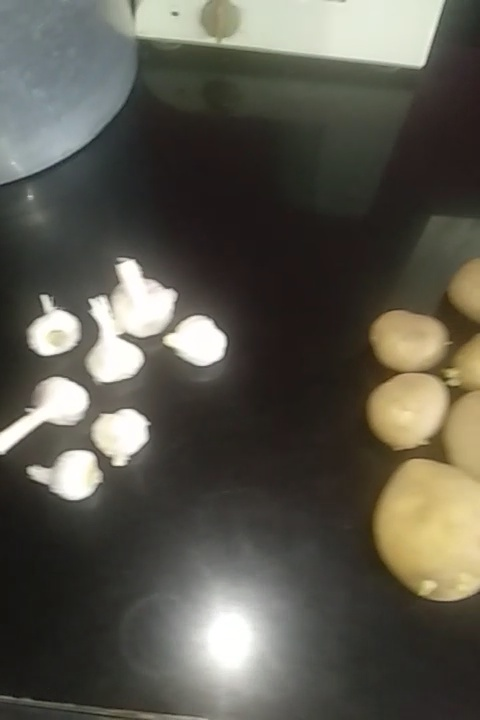garlic: (108, 250, 180, 335), (80, 296, 144, 385), (1, 373, 79, 442), (22, 448, 110, 507), (17, 294, 85, 359), (168, 319, 241, 371), (83, 406, 152, 459)
potato: (375, 454, 480, 607), (366, 374, 449, 440), (369, 313, 450, 368), (440, 390, 480, 473), (443, 337, 480, 395), (446, 263, 480, 325)
